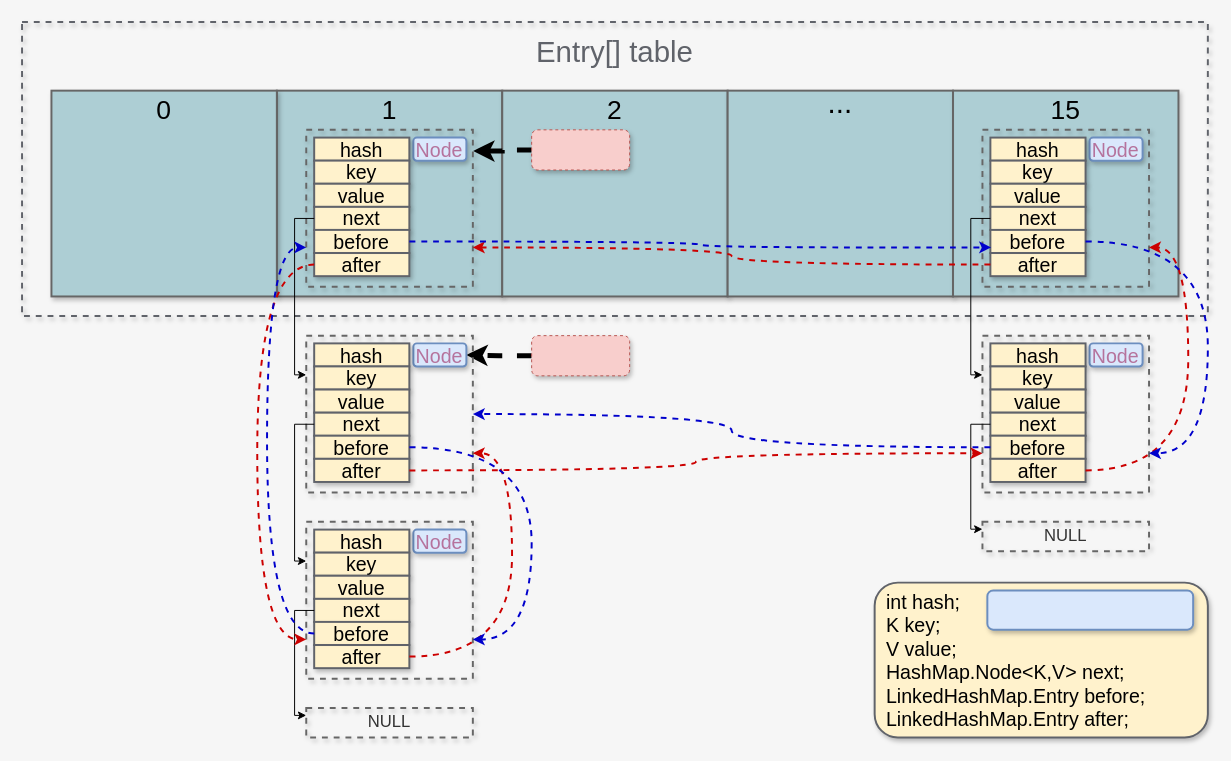
This 1231x761 diagram has some shape labels left out. Here are the shapes that lost their labels. From the top down, the centre of each, then its label:
At (581,151): "head".
At (581,357): "tail".
At (1091,611): "LinkedHashMap.Entry".
